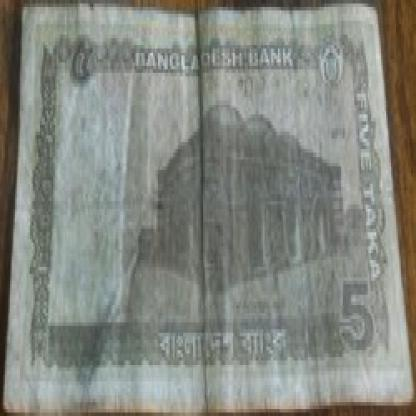Five Taka: (352, 76, 388, 284), (338, 270, 376, 371), (62, 31, 98, 94)
